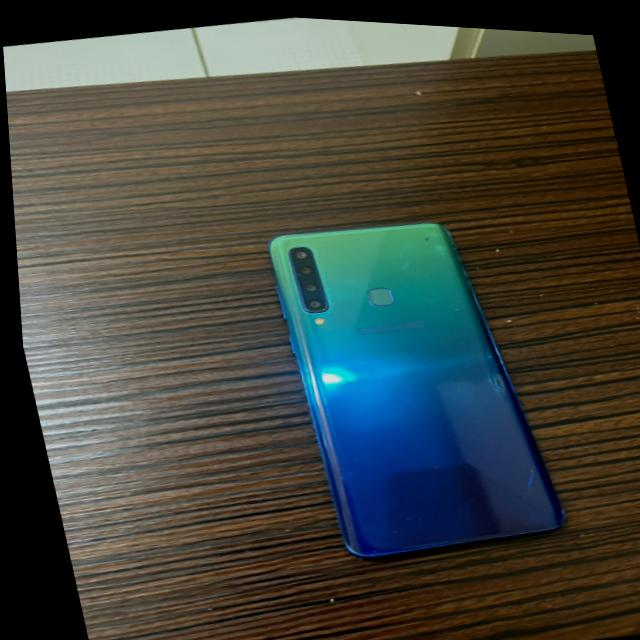Smartphone: (266, 218, 558, 554)
